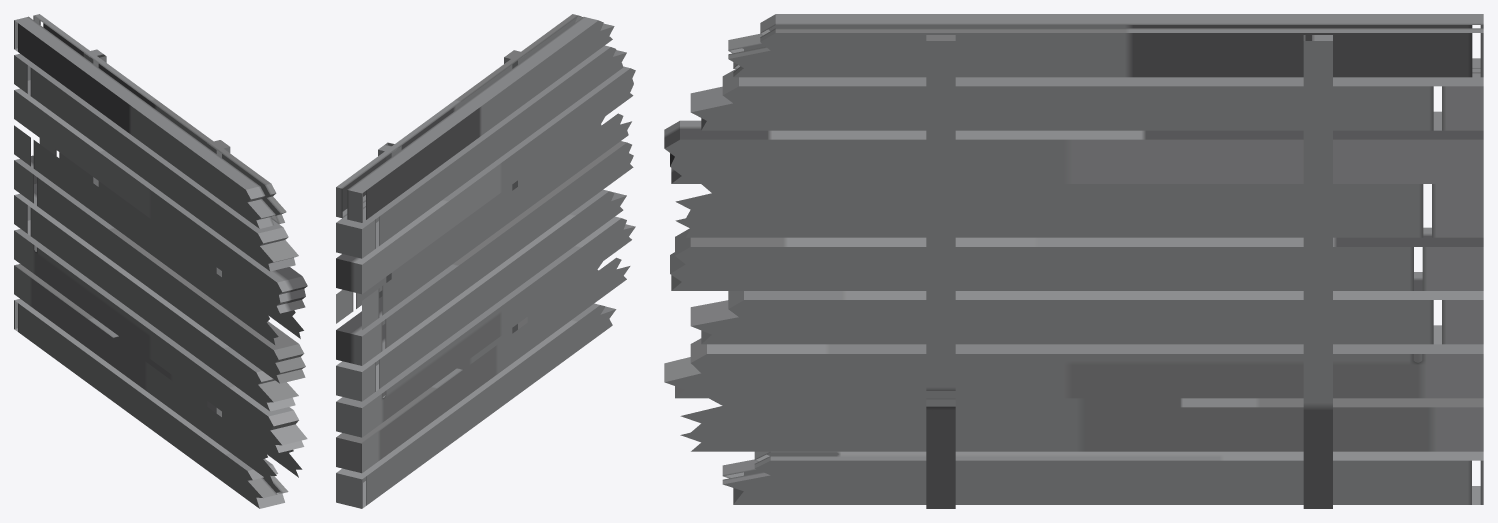
3 views of the same model, side by side, from view 1: azimuth 30°, elevation 25°; view 2: azimuth 150°, elevation 25°; view 3: azimuth 270°, elevation 25° (orthographic). The views are drawn at different scales.
Size of the model in its own units: 0.095 by 0.832 by 1.31.
